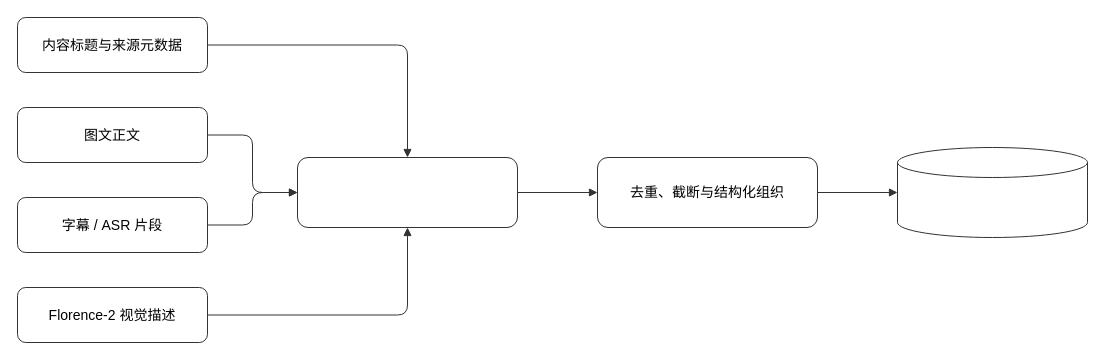
This 1105x360 diagram has some shape labels left out. Here are the shapes that lost their labels. From the top down, the centre of each, then its label:
At (x=407, y=192): "按时间戳与人脸记录对齐".
At (x=992, y=192): "semantic_text Visual / Speech / Post".
